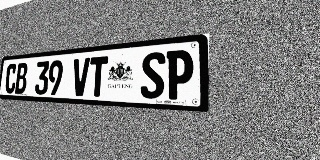3: (35, 61, 49, 95)
9: (47, 60, 63, 95)
B: (15, 63, 28, 94)
C: (5, 63, 17, 94)
P: (165, 49, 194, 100)
S: (140, 51, 166, 99)
T: (88, 56, 108, 97)
V: (72, 58, 90, 96)
